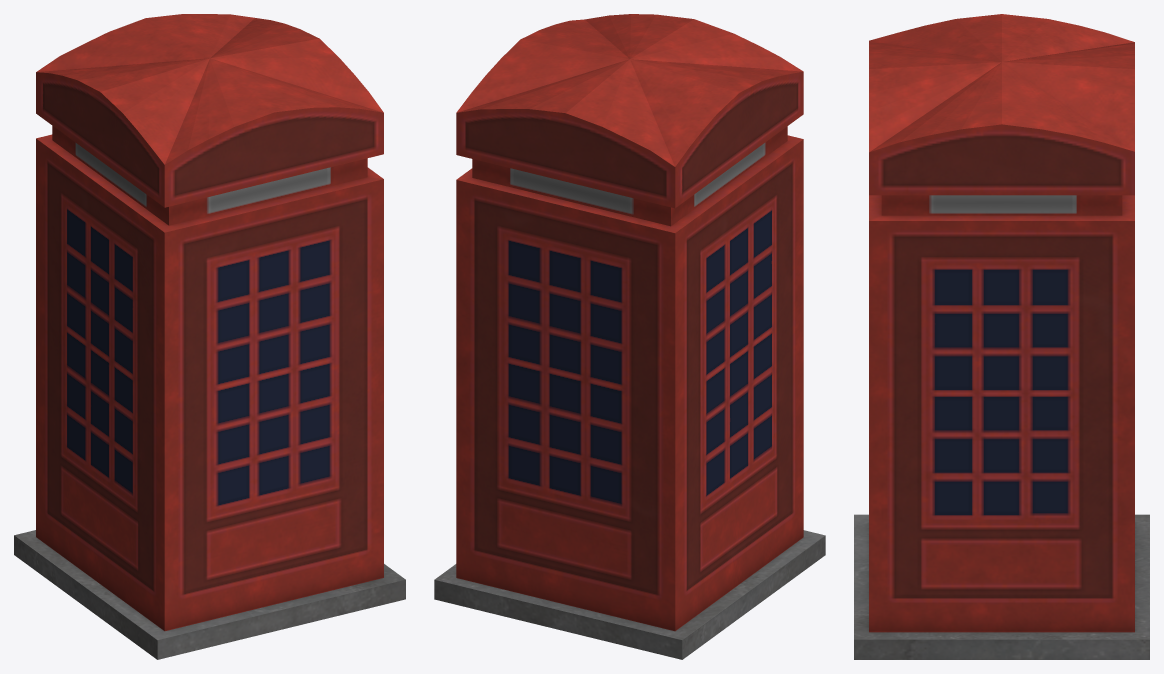
File: sb_obj_ModernCity106_telephone_booth.fbx
3 views of the same model, side by side, from view 1: azimuth 30°, elevation 25°; view 2: azimuth 150°, elevation 25°; view 3: azimuth 270°, elevation 25° (orthographic). The views are drawn at different scales.
Parts seen in each view (by area): view 1: sb_obj_ModernCity106_telephone_booth; view 2: sb_obj_ModernCity106_telephone_booth; view 3: sb_obj_ModernCity106_telephone_booth.
Boxes of the visible parts, x1,y1,x2,y2 form: sb_obj_ModernCity106_telephone_booth: [14, 14, 405, 659]; sb_obj_ModernCity106_telephone_booth: [434, 14, 825, 659]; sb_obj_ModernCity106_telephone_booth: [854, 14, 1149, 659].
Bounding box in the file's own units: 1 × 2 × 1.
